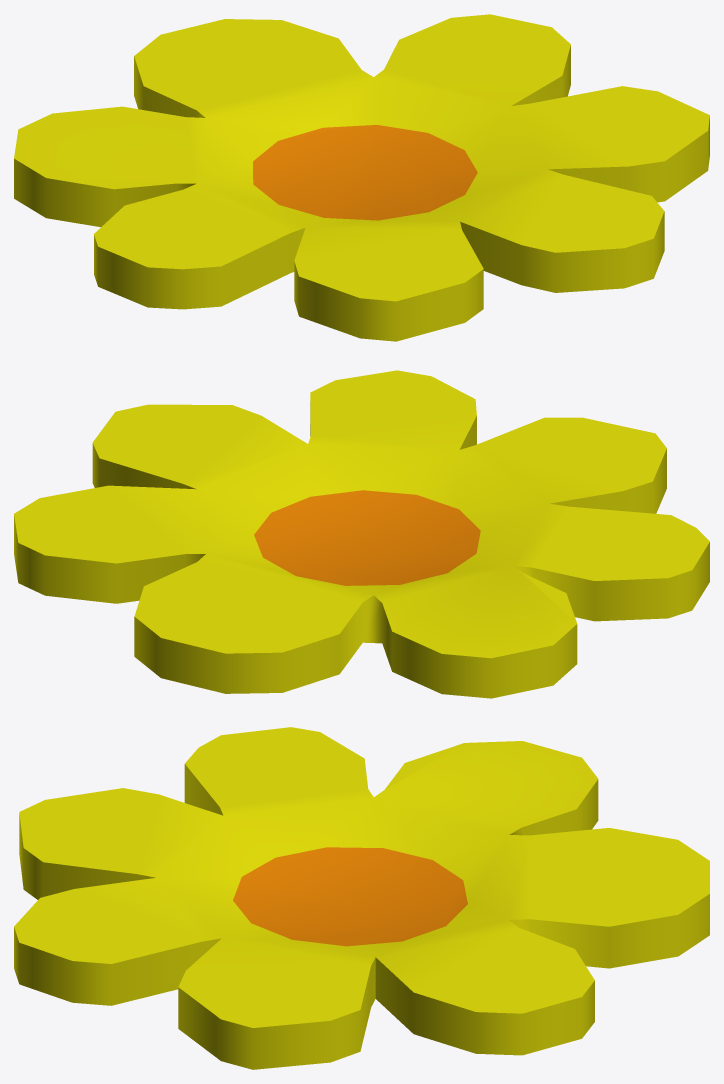
Rendered from flower2.fbx.
The picture shows the model from 3 angles, top to bottom: view 1: azimuth 30°, elevation 25°; view 2: azimuth 150°, elevation 25°; view 3: azimuth 270°, elevation 25°; orthographic projection. The views are drawn at different scales.
Visible parts, largest first — view 1: flower2; view 2: flower2; view 3: flower2.
Part boxes in pixels (<box>): flower2: <box>14,14,709,341</box>; flower2: <box>14,370,709,698</box>; flower2: <box>14,727,709,1069</box>.
Bounding box in the file's own units: 0.1621 × 0.0105 × 0.1584.
